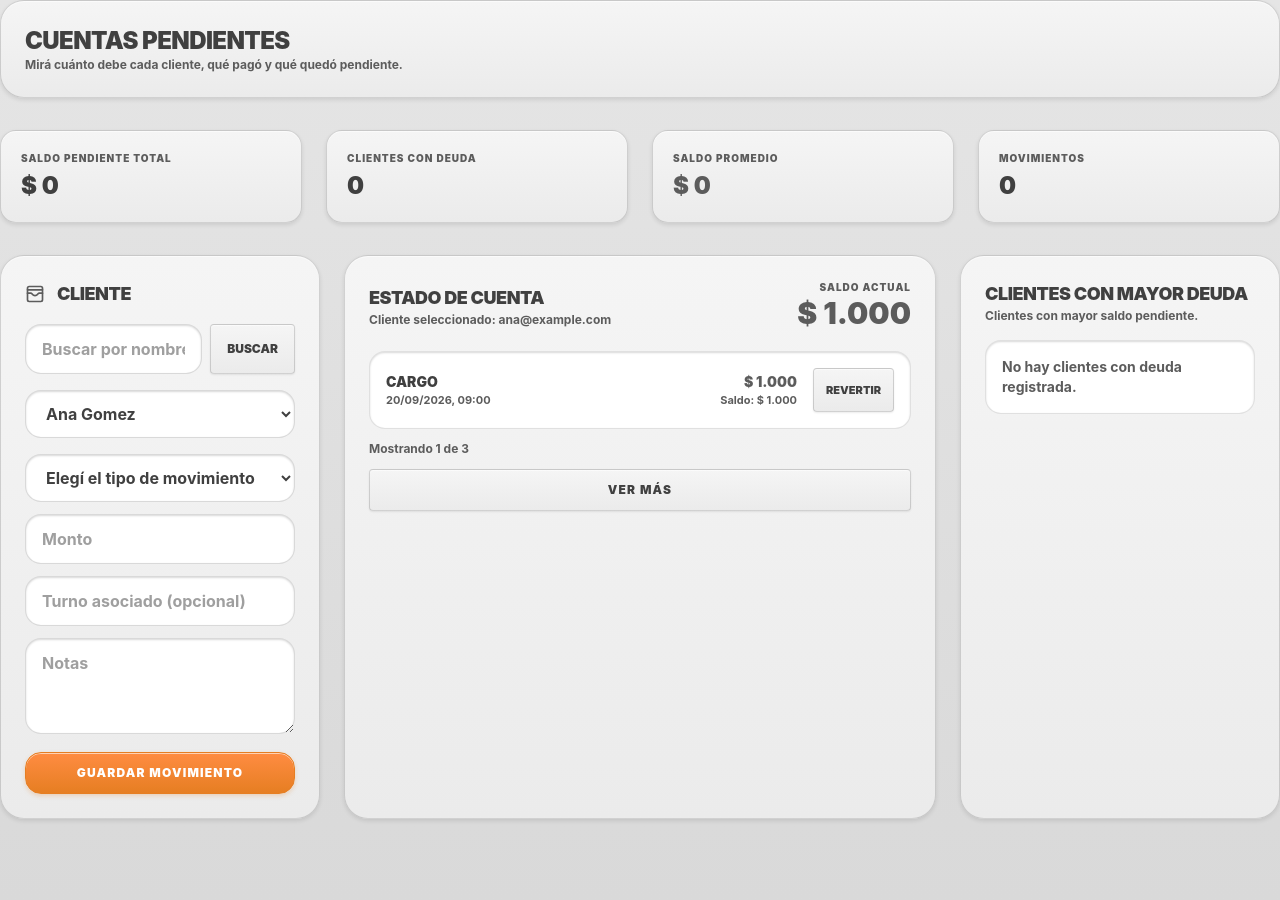
Test: LedgerPage: revertir un movimiento › al confirmar revierte ese movimiento del cliente elegido y lo avisa
Click the button "Revertir": (854, 390) x1=813 y1=368 x2=894 y2=412
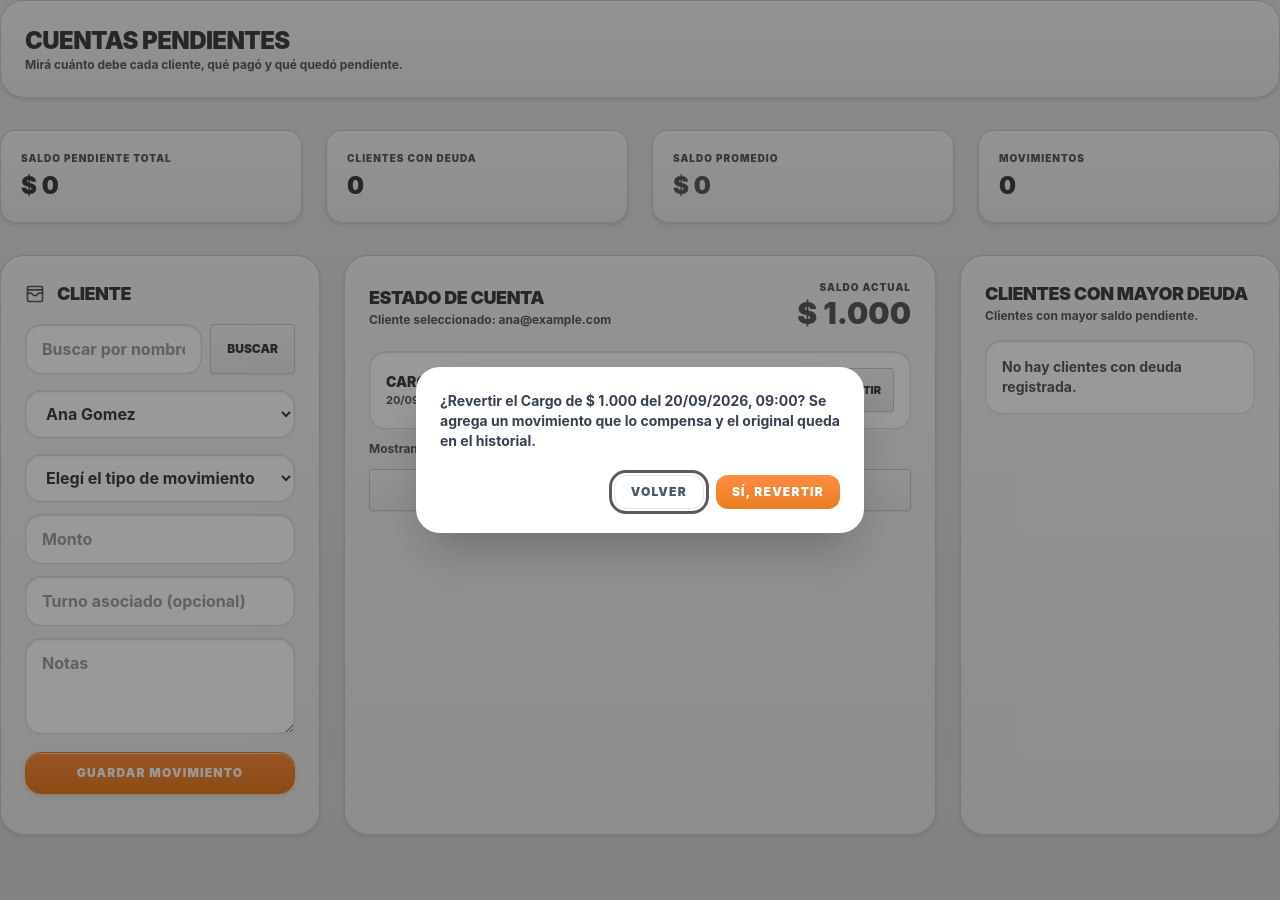
Click the button "Sí, revertir": (778, 492) x1=716 y1=475 x2=840 y2=509
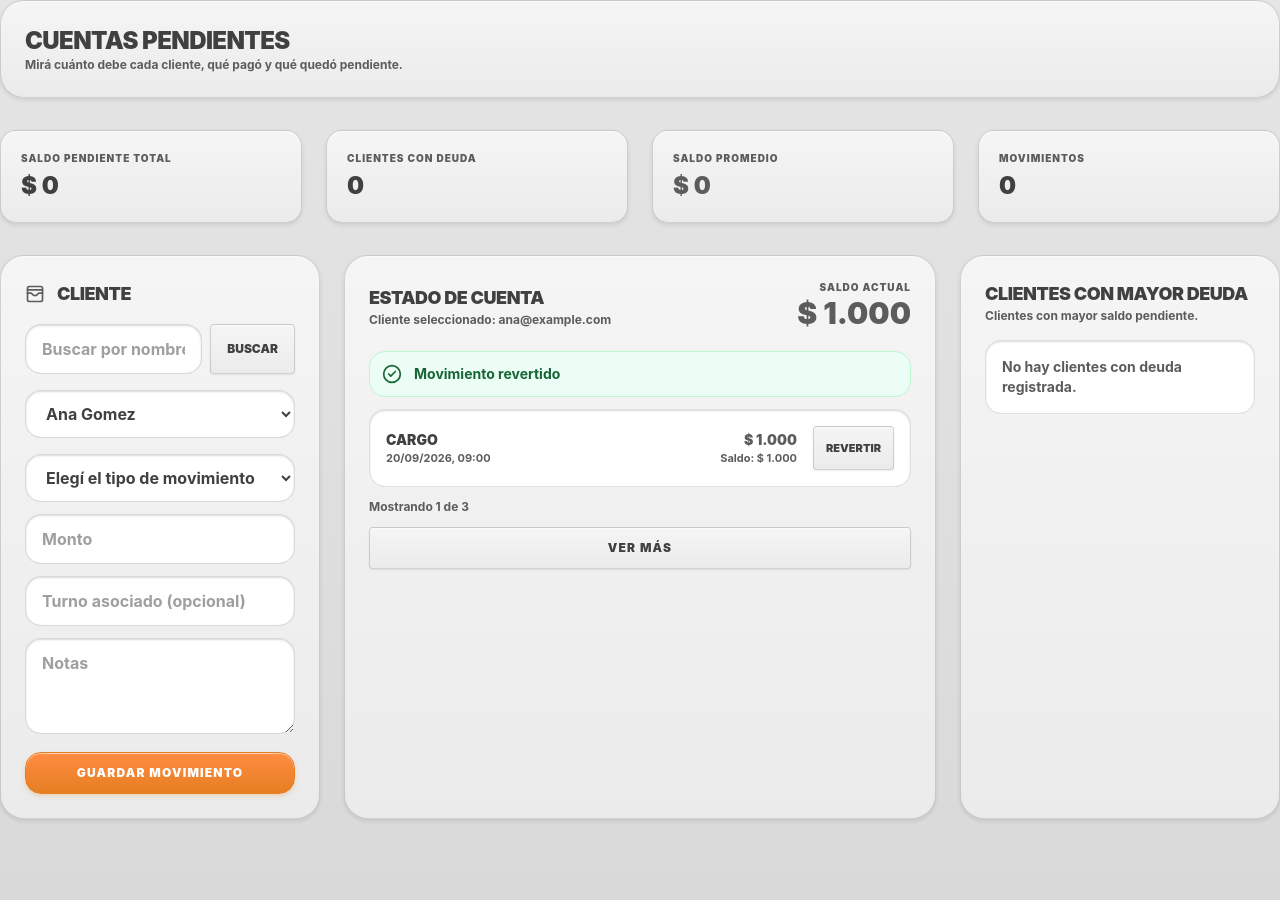
Expected: the message reads "Movimiento revertido", x1=414 y1=365 x2=560 y2=382
